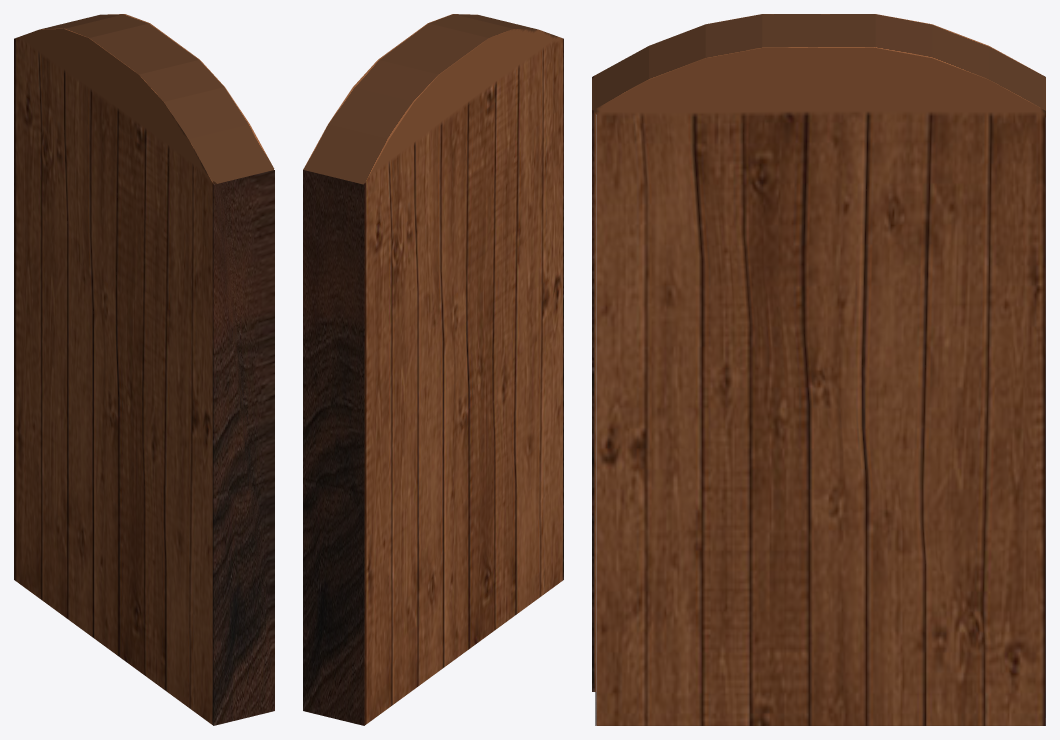
Rendered from exitDoor.fbx.
3 views of the same model, side by side, from view 1: azimuth 30°, elevation 25°; view 2: azimuth 150°, elevation 25°; view 3: azimuth 270°, elevation 25° (orthographic). The views are drawn at different scales.
Visible parts, largest first — view 1: Cube; view 2: Cube; view 3: Cube.
Boxes of the visible parts, x1,y1,x2,y2 form: Cube: (14, 14, 274, 725); Cube: (303, 14, 563, 725); Cube: (592, 14, 1045, 725).
Bounding box in the file's own units: 35.43 × 330 × 200.
Materials: 1 (1 with a texture image).
